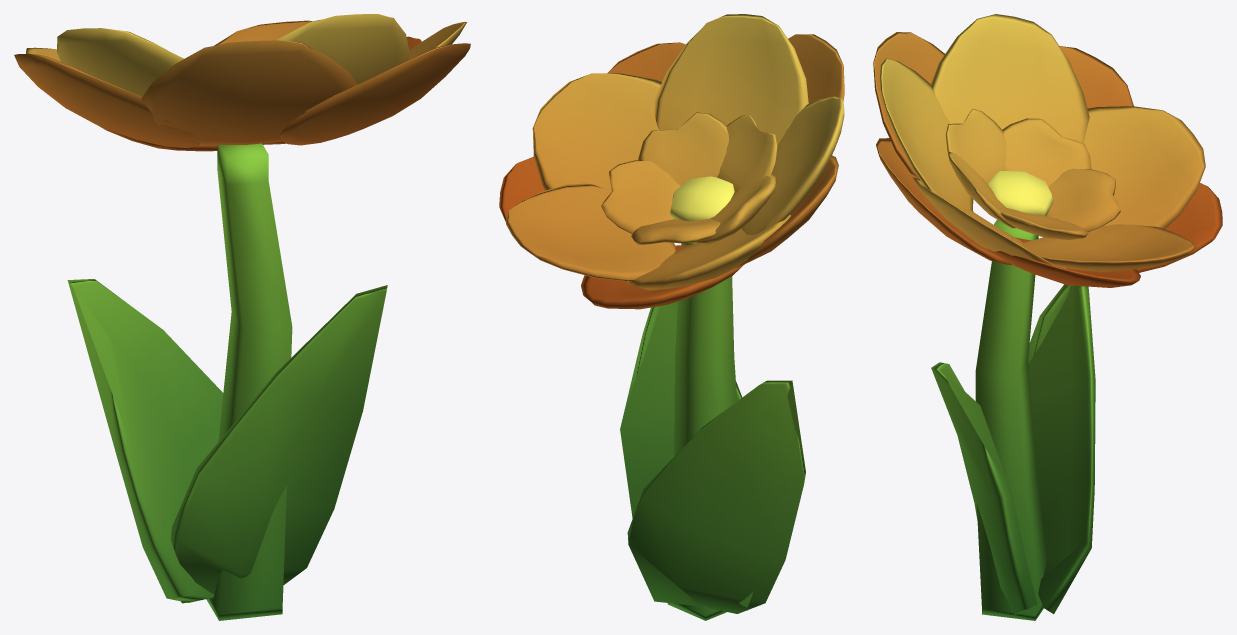
File: FlorNaranja.fbx
3 renders of one model, left to right at view 1: azimuth 30°, elevation 25°; view 2: azimuth 150°, elevation 25°; view 3: azimuth 270°, elevation 25°, orthographic. The views are drawn at different scales.
Visible parts, largest first — view 1: Flor2b; view 2: Flor2b; view 3: Flor2b.
Boxes of the visible parts, box(x1,y1,x2,y2) form: Flor2b: box(14, 14, 470, 620); Flor2b: box(499, 14, 844, 620); Flor2b: box(873, 14, 1222, 620).
Bounding box in the file's own units: 74.1 × 117 × 68.01.
